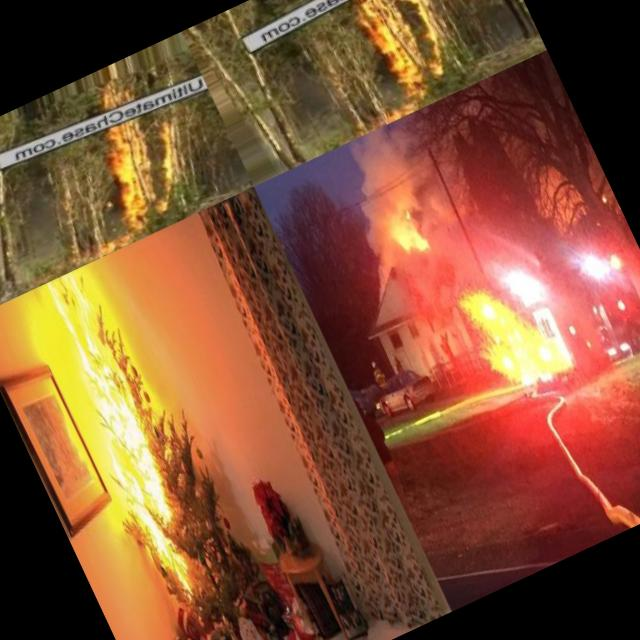fire: (30, 272, 214, 598), (88, 98, 218, 236), (349, 0, 465, 102), (372, 198, 434, 268)
smoke: (338, 118, 435, 218)
